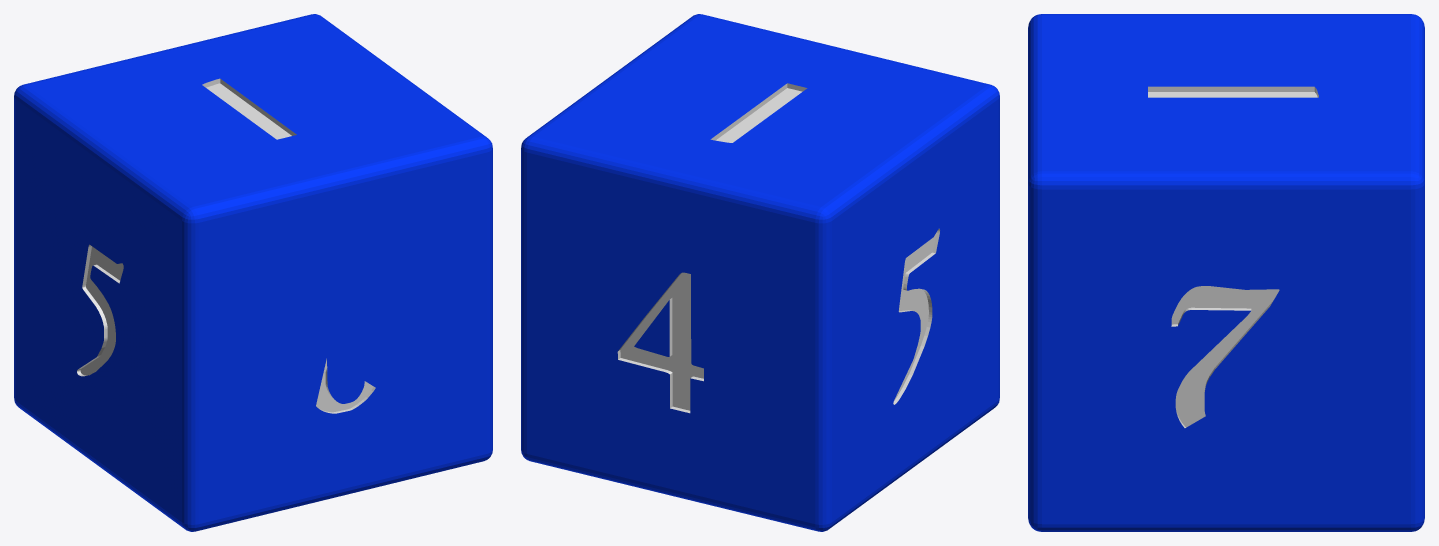
3 views of the same model, side by side, from view 1: azimuth 30°, elevation 25°; view 2: azimuth 150°, elevation 25°; view 3: azimuth 270°, elevation 25° (orthographic). The views are drawn at different scales.
Visible parts, largest first — view 1: die; view 2: die; view 3: die.
Boxes of the visible parts, <box> form: die: <box>14,14,492,531</box>; die: <box>521,14,999,531</box>; die: <box>1028,14,1424,531</box>.
Bounding box in the file's own units: 76.05 × 76.05 × 76.05.
